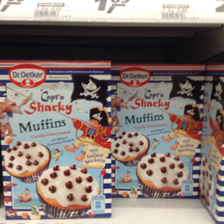cake: (3, 61, 112, 223), (109, 62, 204, 203)
